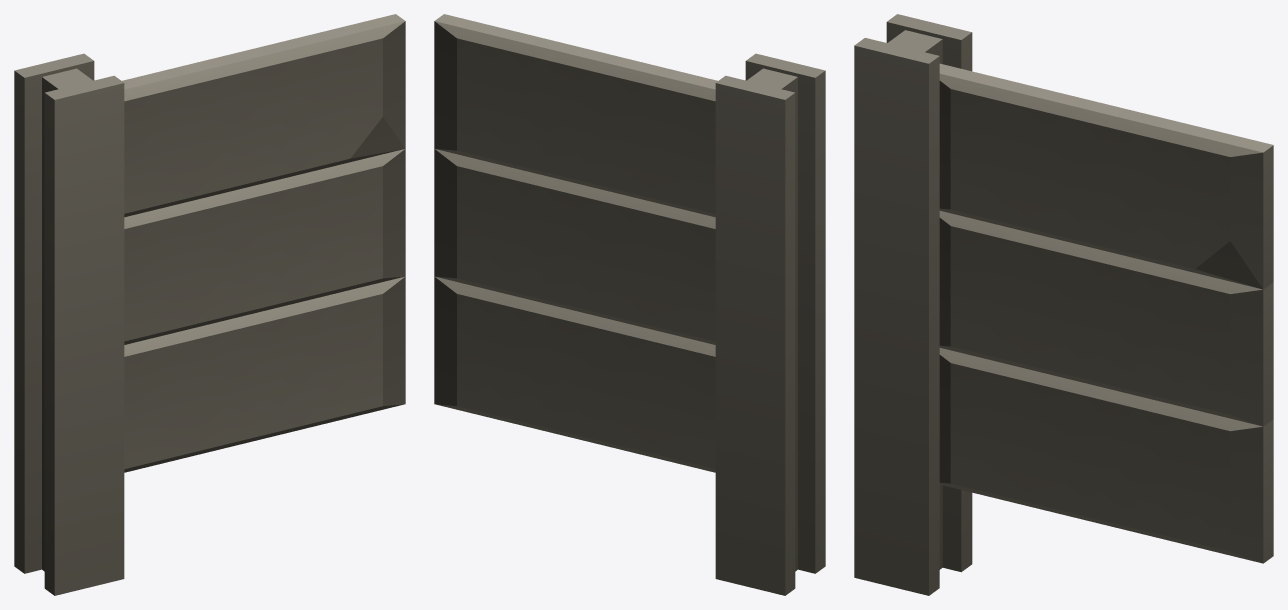
Rendered from Concrete_Fence_1A.fbx.
3 renders of one model, left to right at view 1: azimuth 30°, elevation 25°; view 2: azimuth 150°, elevation 25°; view 3: azimuth 330°, elevation 25°, orthographic. The views are drawn at different scales.
Visible parts, largest first — view 1: Concrete_Fence_1A; view 2: Concrete_Fence_1A; view 3: Concrete_Fence_1A.
Boxes of the visible parts, box(x1,y1,x2,y2) form: Concrete_Fence_1A: box(14, 14, 405, 595); Concrete_Fence_1A: box(434, 14, 825, 595); Concrete_Fence_1A: box(854, 14, 1273, 595).
Size of the model in its own units: 2.1 by 2.72 by 0.4.
